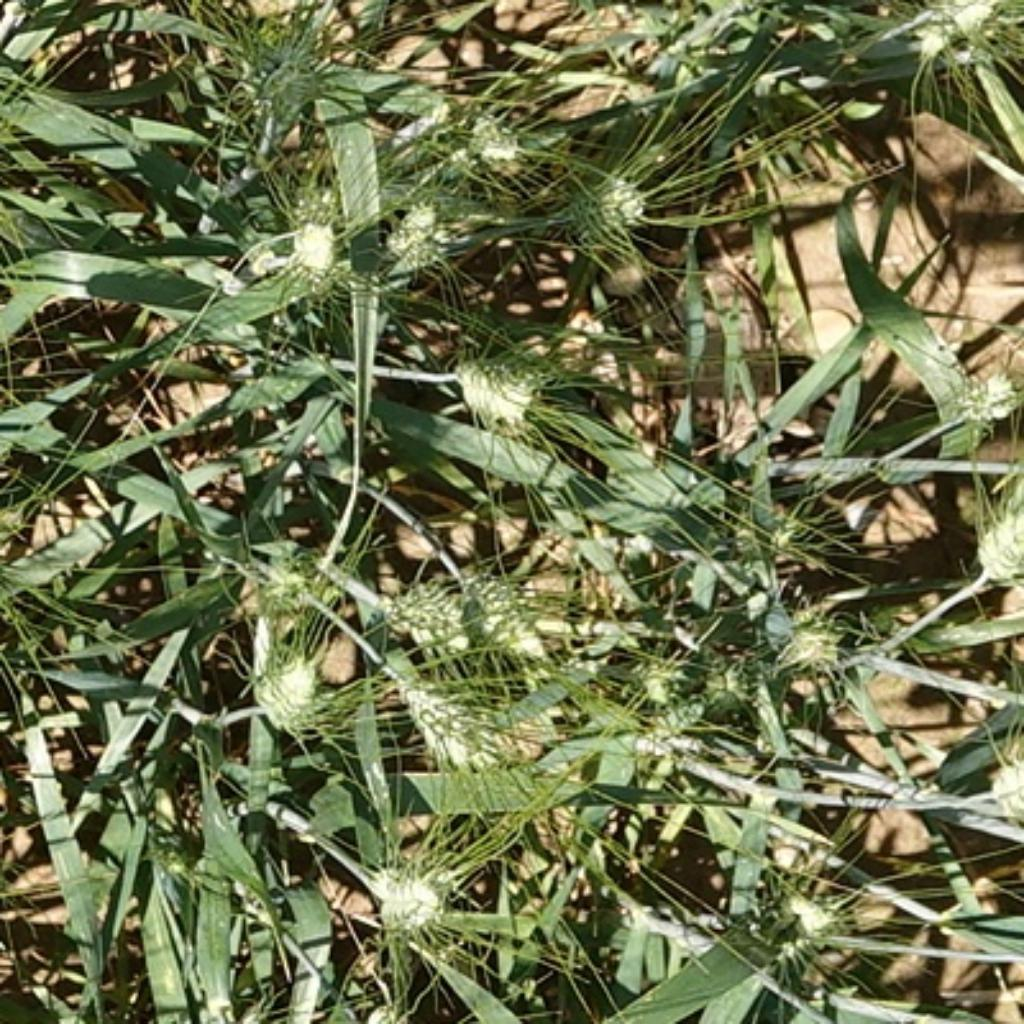0-0: (716, 865, 855, 975), (391, 655, 529, 765), (212, 0, 332, 123), (448, 327, 570, 437), (908, 332, 1018, 430), (266, 168, 348, 299), (363, 839, 460, 939), (545, 156, 650, 240), (247, 637, 334, 737), (880, 0, 1013, 64), (378, 565, 471, 650), (450, 558, 540, 645), (686, 632, 775, 719), (381, 186, 460, 271), (445, 92, 532, 168), (236, 547, 329, 618), (965, 478, 1021, 578), (775, 593, 844, 668), (624, 637, 696, 704), (988, 742, 1023, 832), (760, 507, 811, 554)
